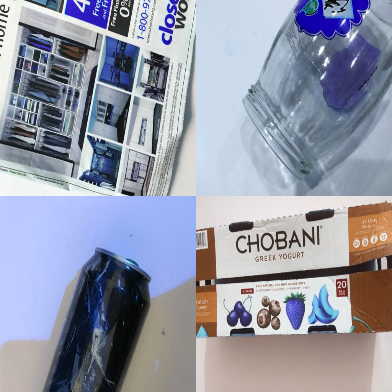cardboard: (195, 202, 391, 338)
glass: (242, 1, 392, 180)
metal: (41, 247, 154, 392)
paper: (1, 1, 195, 195)
